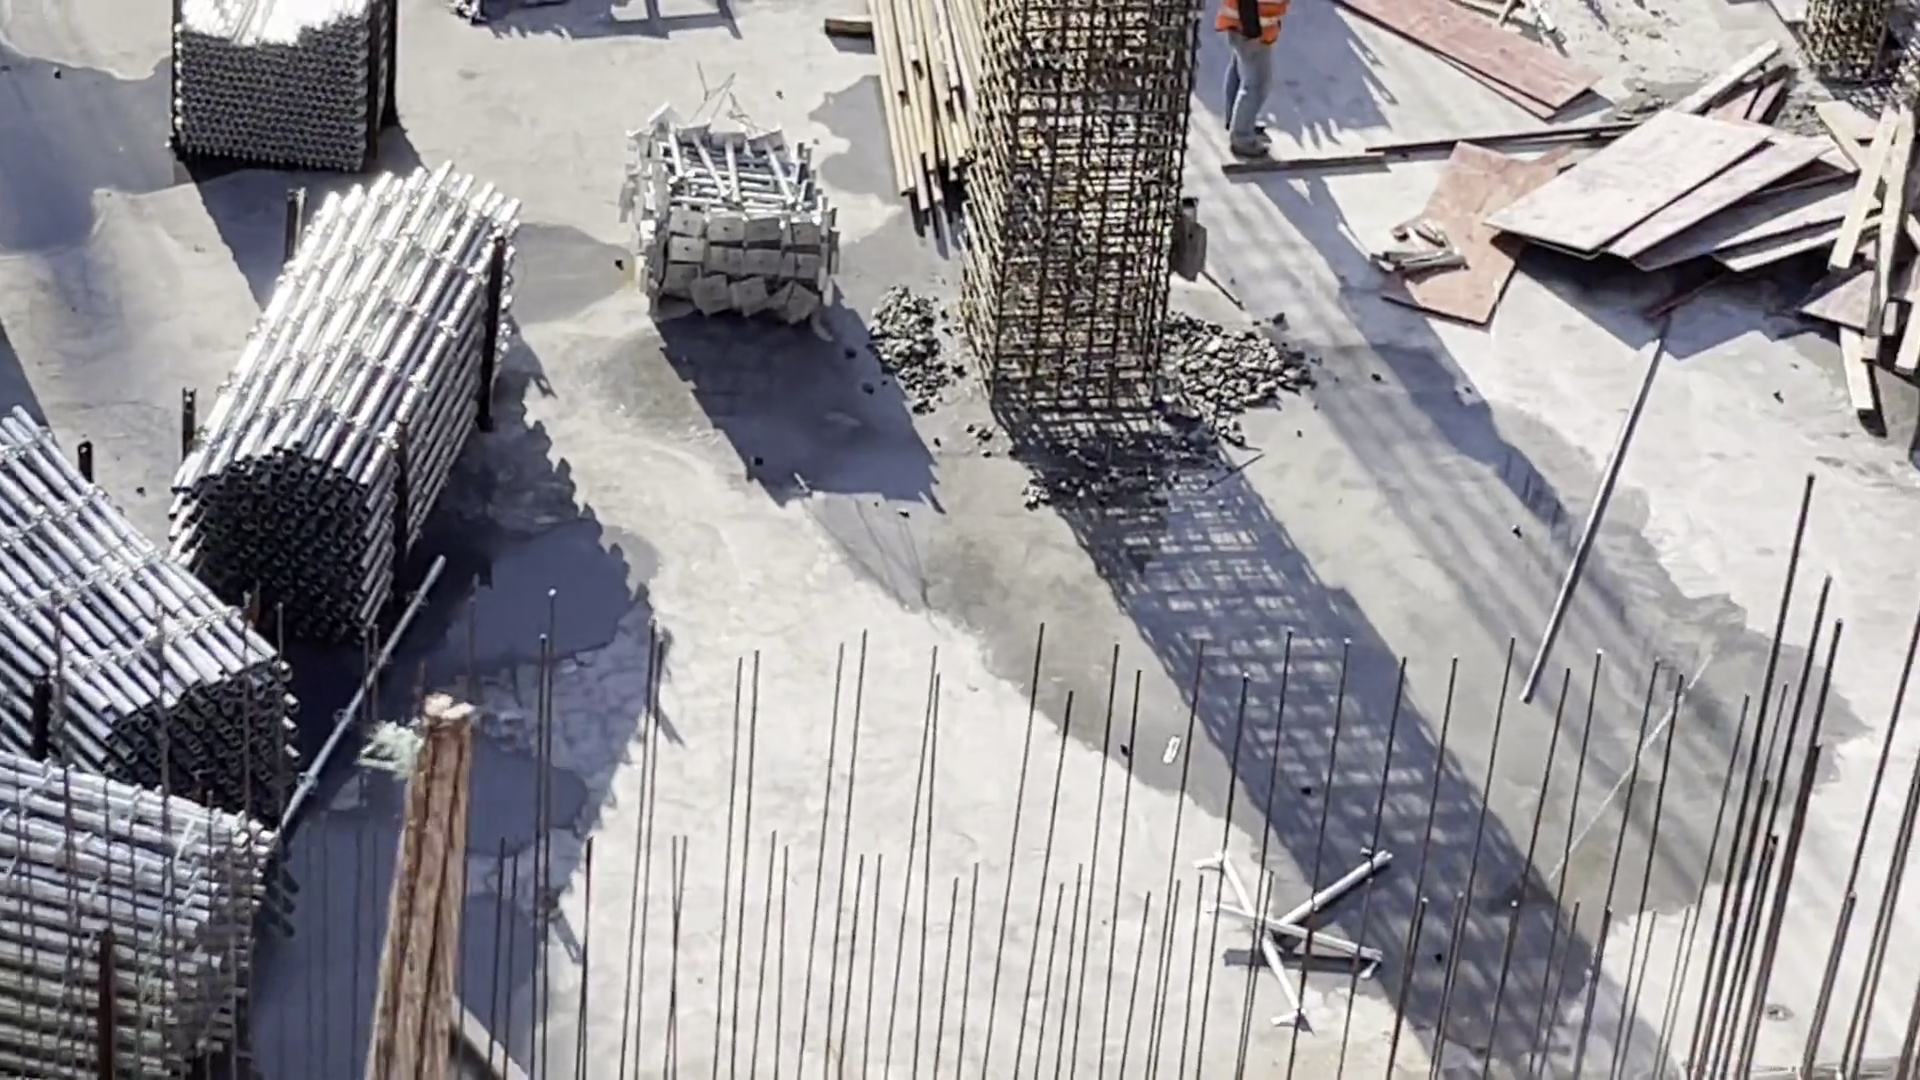board: (1509, 112, 1834, 288)
person: (1201, 1, 1293, 161)
scaffold: (175, 174, 552, 674), (4, 380, 309, 821), (1, 759, 330, 1071), (615, 113, 864, 360), (163, 1, 402, 166)
vest: (1220, 1, 1294, 46)
